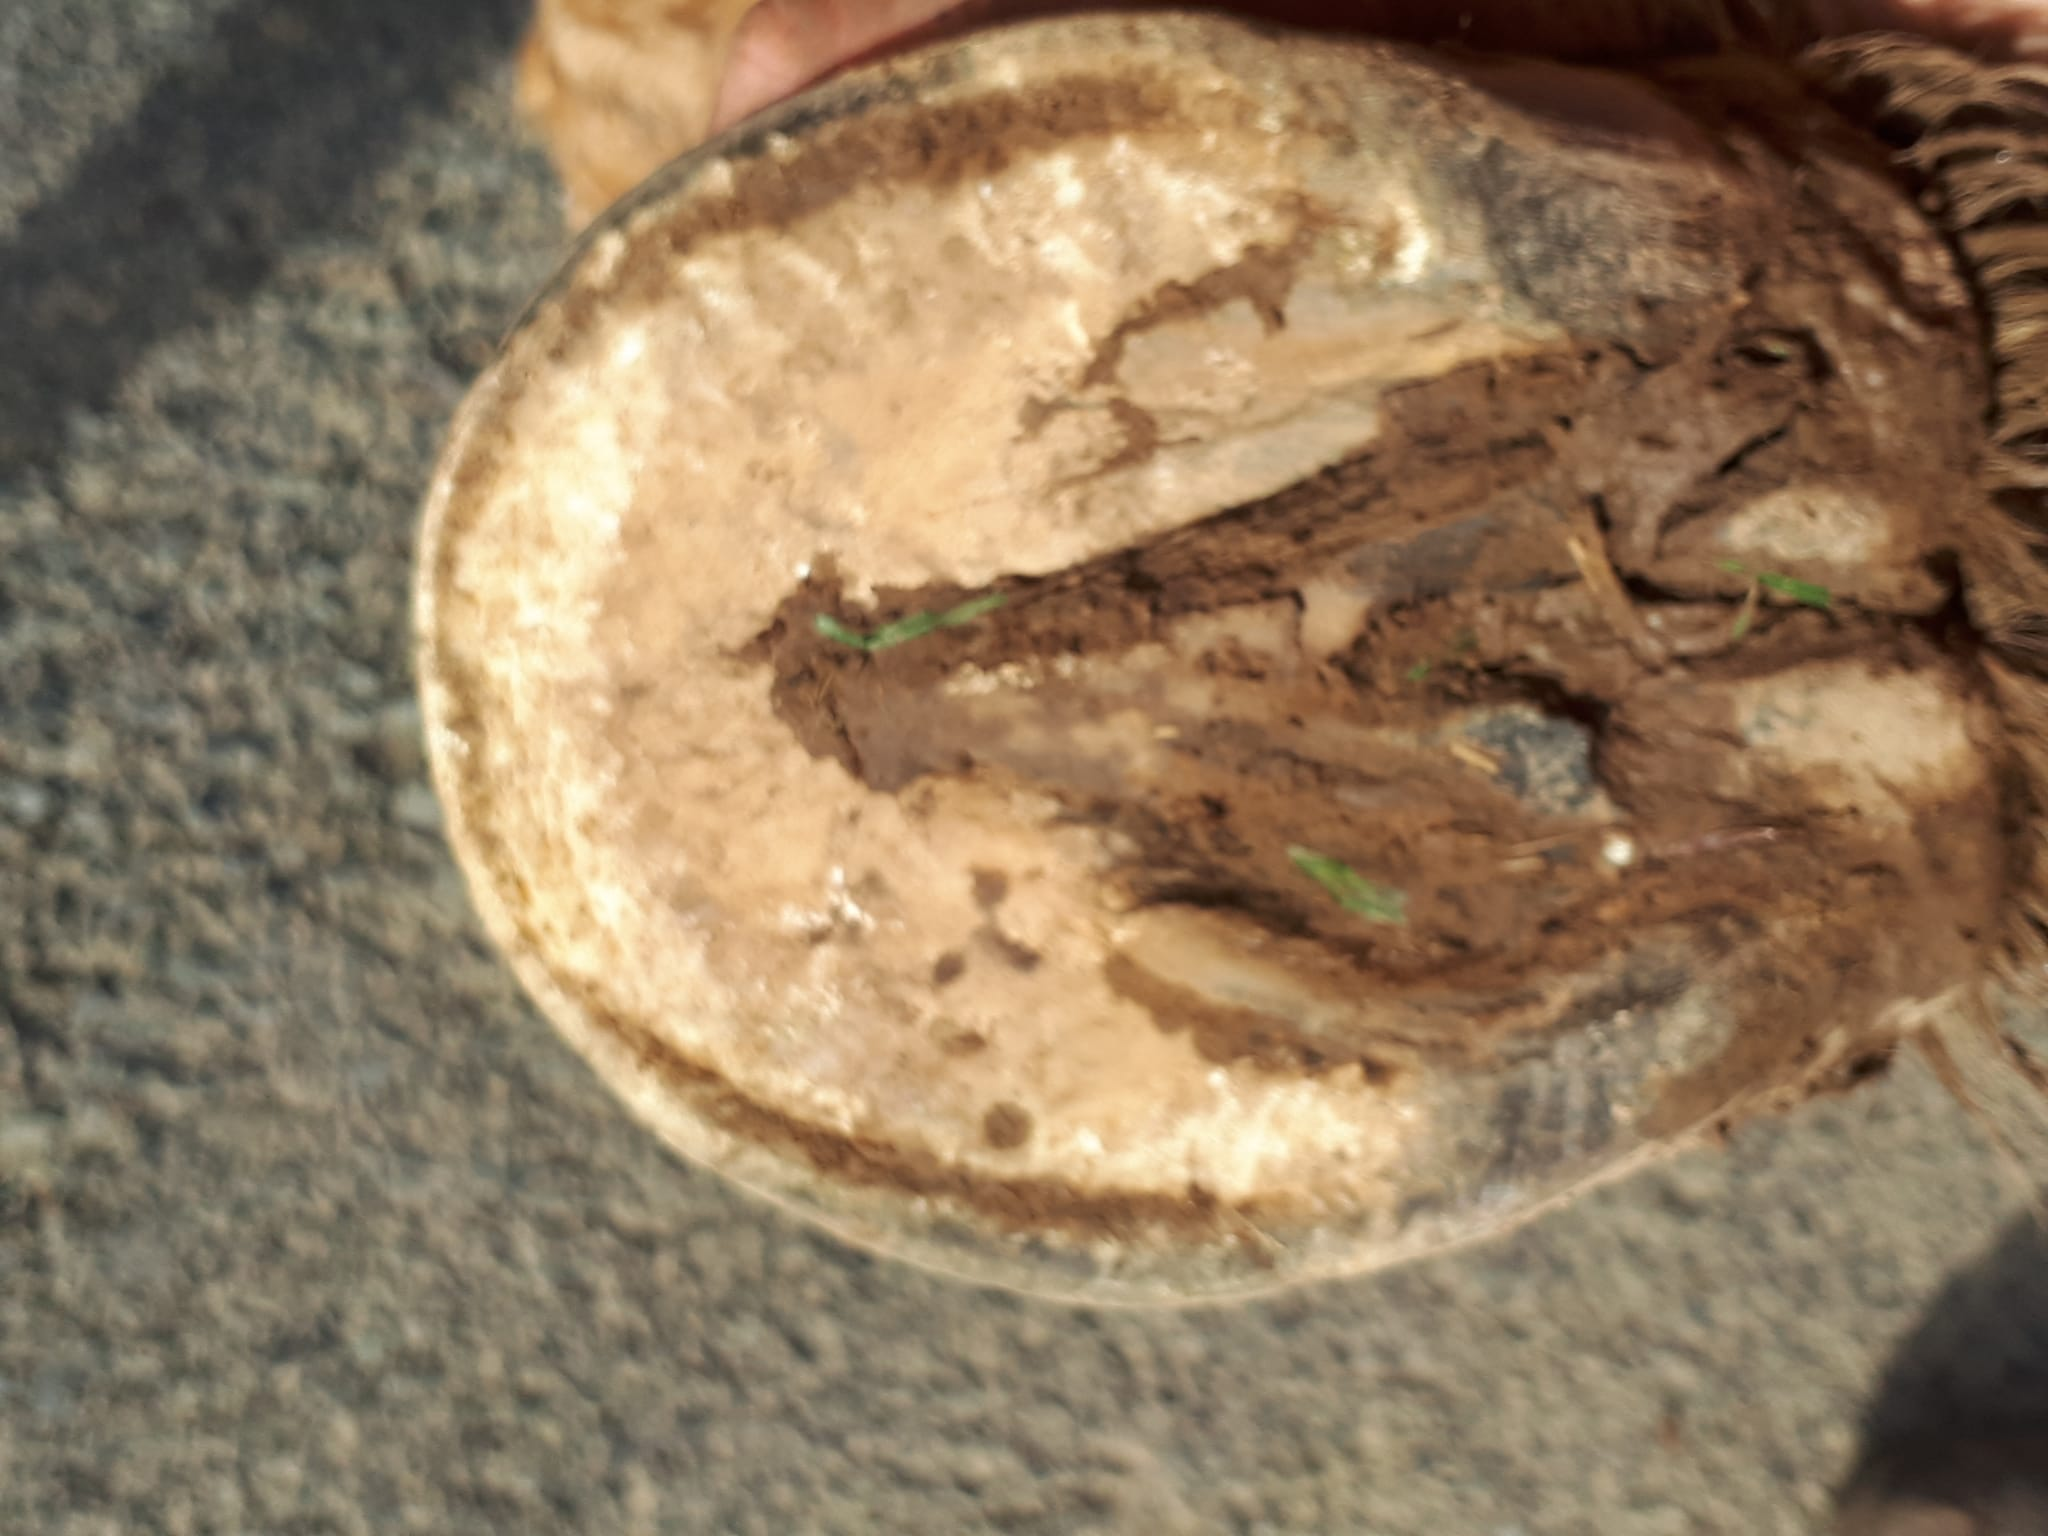horsesole: (414, 10, 1838, 1305)
